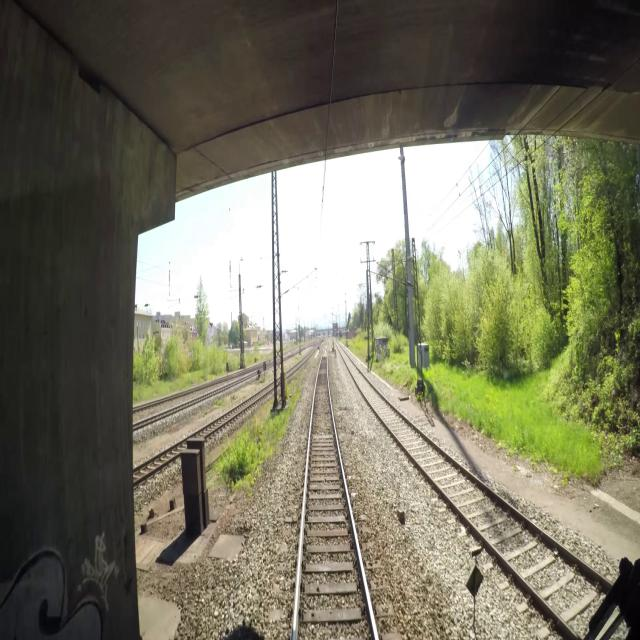rail-track: (342, 351, 604, 628), (297, 351, 374, 639), (133, 456, 164, 476)
